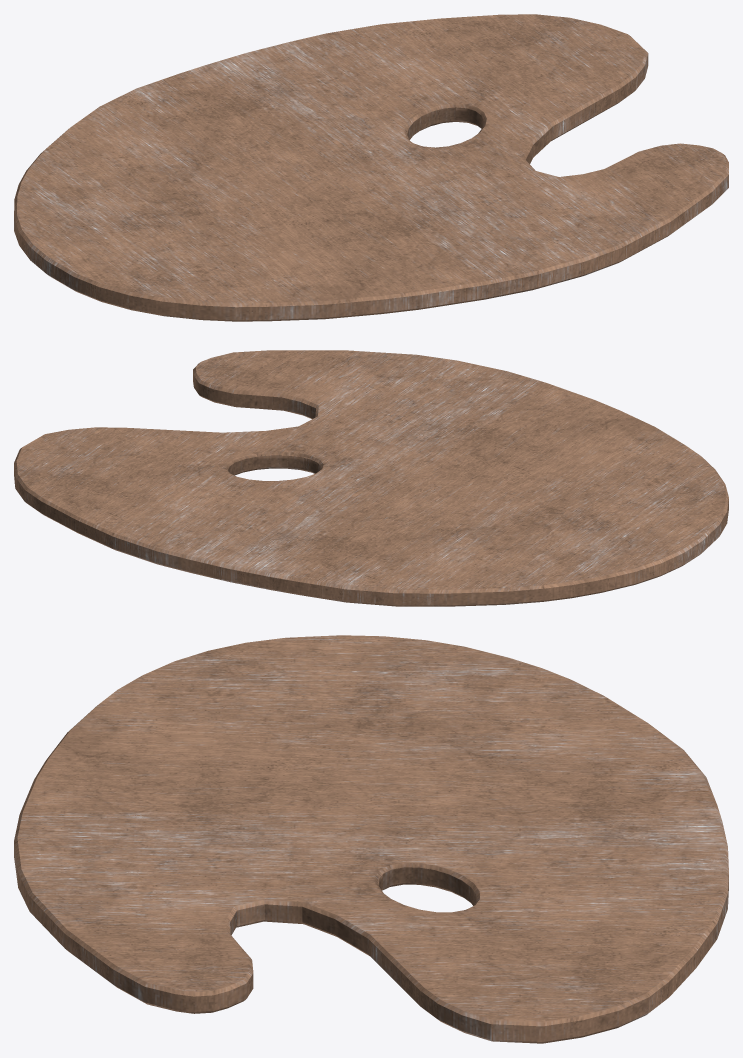
File: Palette.fbx
3 renders of one model, top to bottom at view 1: azimuth 30°, elevation 25°; view 2: azimuth 150°, elevation 25°; view 3: azimuth 270°, elevation 25°, orthographic. The views are drawn at different scales.
Visible parts, largest first — view 1: Palette; view 2: Palette; view 3: Palette.
Boxes of the visible parts, box(x1,y1,x2,y2) form: Palette: box(14, 14, 728, 321); Palette: box(14, 350, 728, 606); Palette: box(14, 635, 728, 1043).
Bounding box in the file's own units: 22.01 × 0.5757 × 17.08.
Materials: 1 (1 with a texture image).
